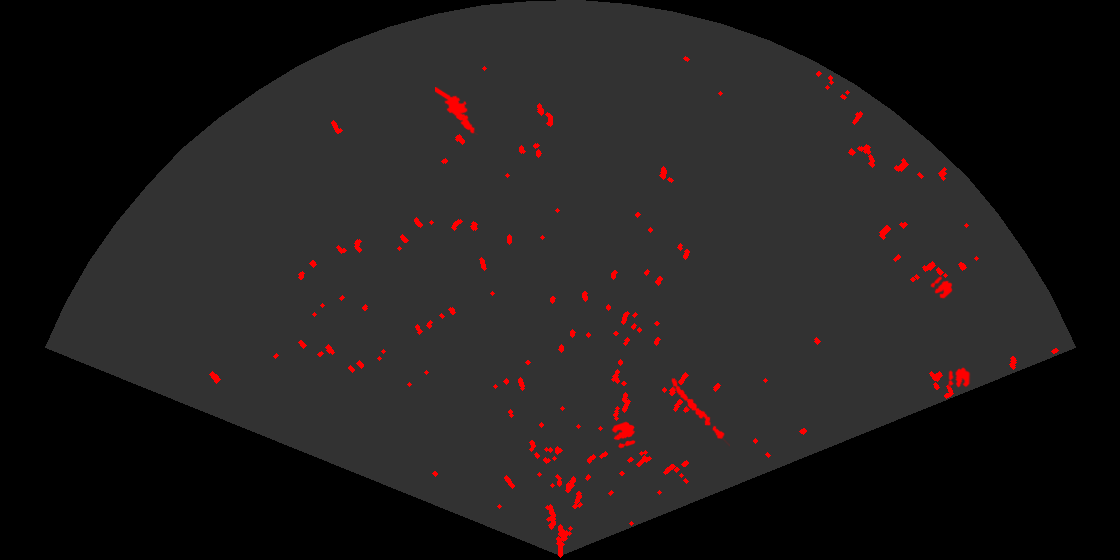ball: (610, 420, 637, 450), (929, 275, 954, 300), (947, 366, 971, 389)
chain: (670, 376, 730, 448)
frogman: (435, 87, 480, 135)
